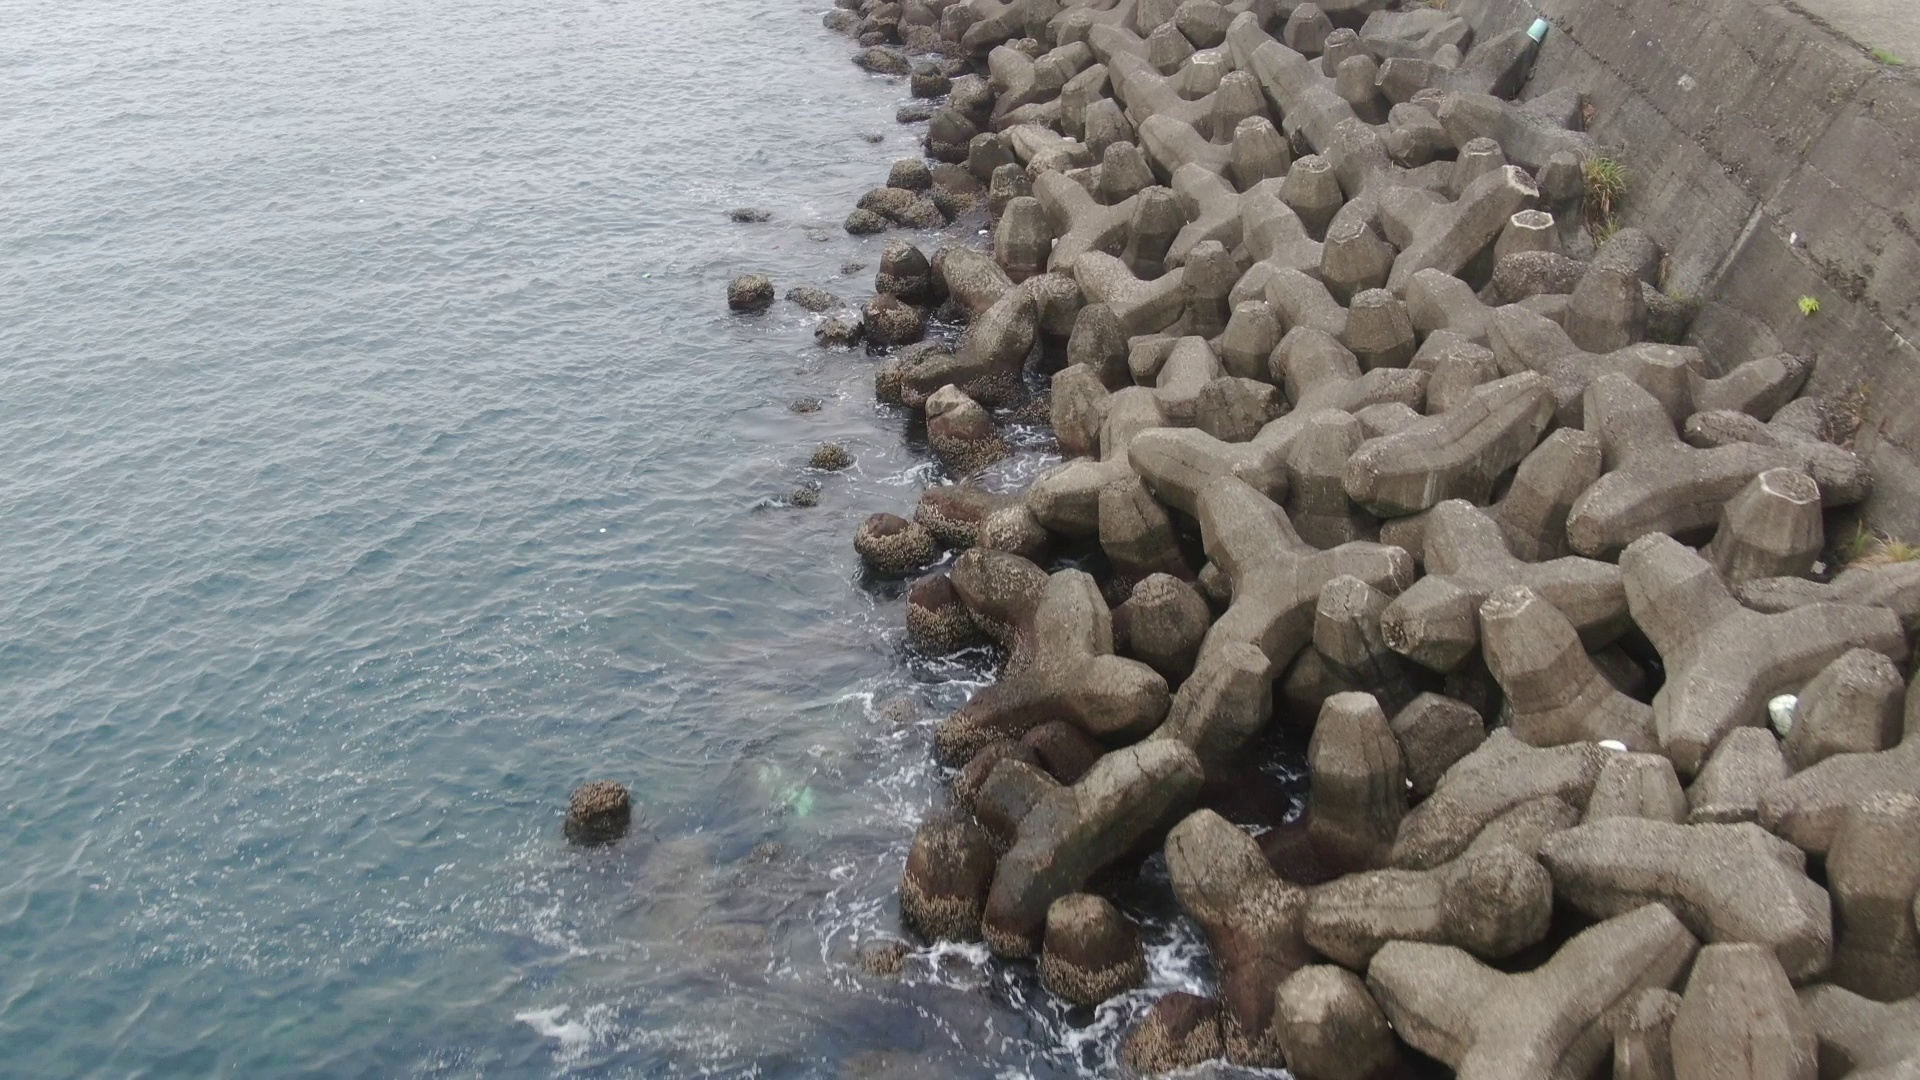garbage: (1762, 686, 1809, 740), (1520, 11, 1559, 51)
